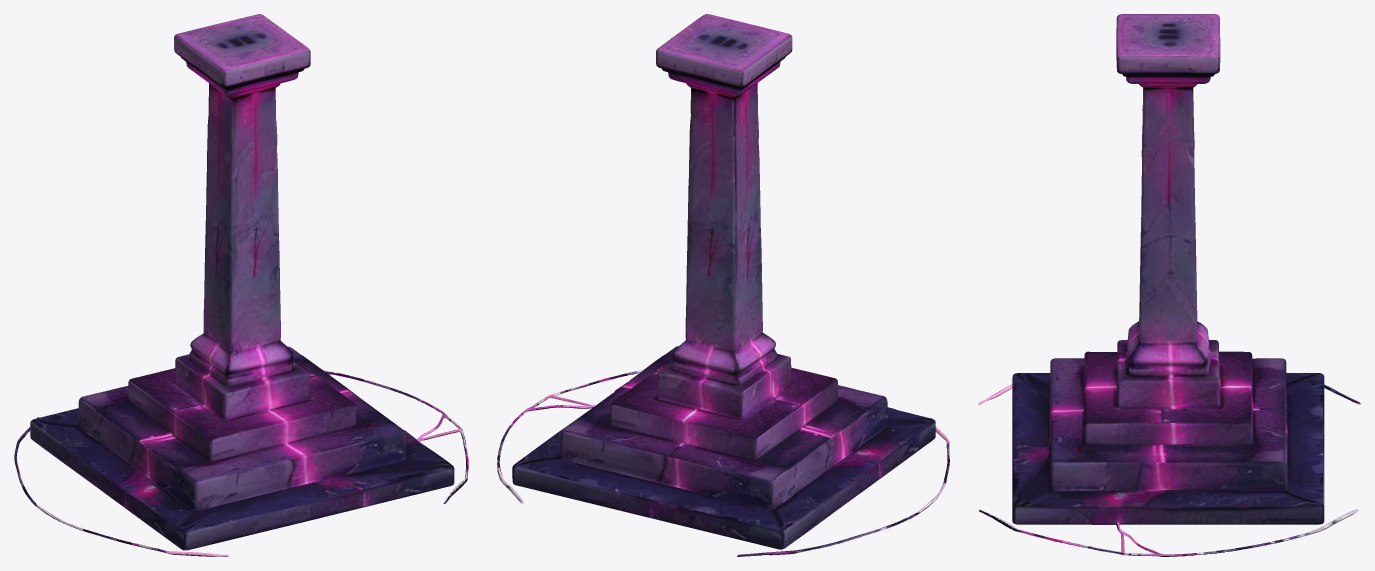
The model's file is support-column-generated-2026-05-17T18-36-48-079Z.low.glb.
3 renders of one model, left to right at view 1: azimuth 30°, elevation 25°; view 2: azimuth 150°, elevation 25°; view 3: azimuth 270°, elevation 25°, orthographic.
Visible parts, largest first — view 1: temp_mesh.ply; view 2: temp_mesh.ply; view 3: temp_mesh.ply.
Boxes of the visible parts, x1=… form: temp_mesh.ply: x1=14, y1=14, x2=468, y2=556; temp_mesh.ply: x1=497, y1=14, x2=949, y2=556; temp_mesh.ply: x1=978, y1=14, x2=1360, y2=556.
Bounding box in the file's own units: 1.97 × 1.97 × 1.61.
1 material, 1 textured.
